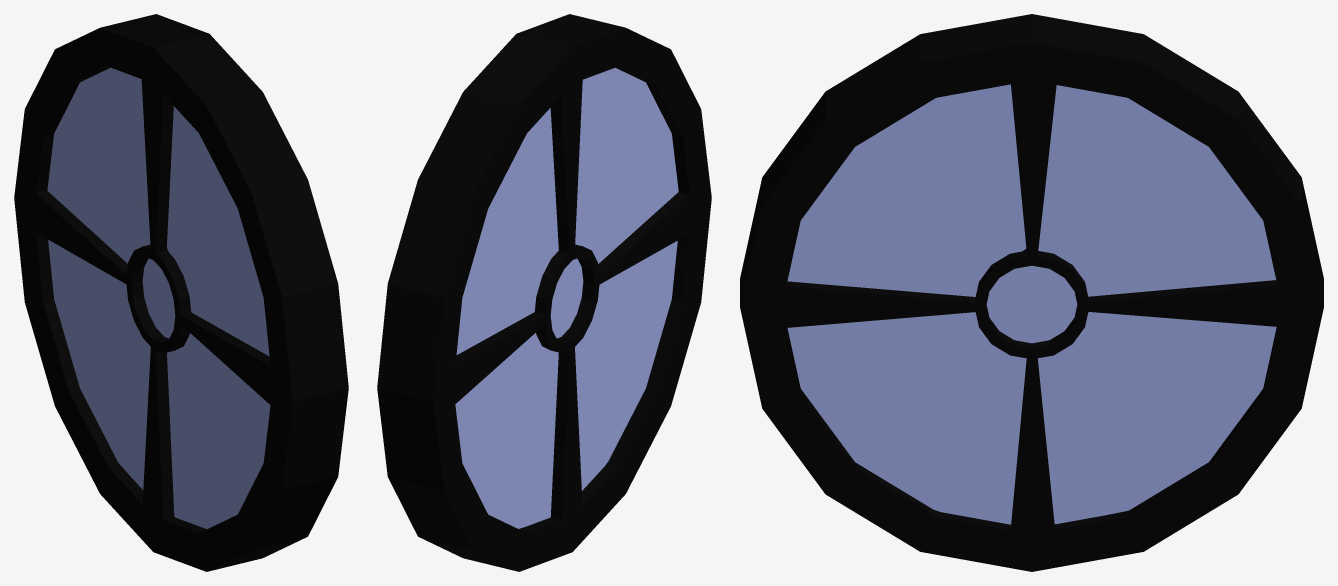
The model's file is JanelaRedonda.fbx.
3 renders of one model, left to right at view 1: azimuth 30°, elevation 25°; view 2: azimuth 150°, elevation 25°; view 3: azimuth 270°, elevation 25°, orthographic. The views are drawn at different scales.
Parts seen in each view (by area): view 1: Vidro; view 2: Vidro; view 3: Vidro.
Boxes of the visible parts, <box> form: Vidro: <box>14,14,348,571</box>; Vidro: <box>377,14,711,571</box>; Vidro: <box>740,14,1323,571</box>.
Size of the model in its own units: 27.69 by 237 by 237.
